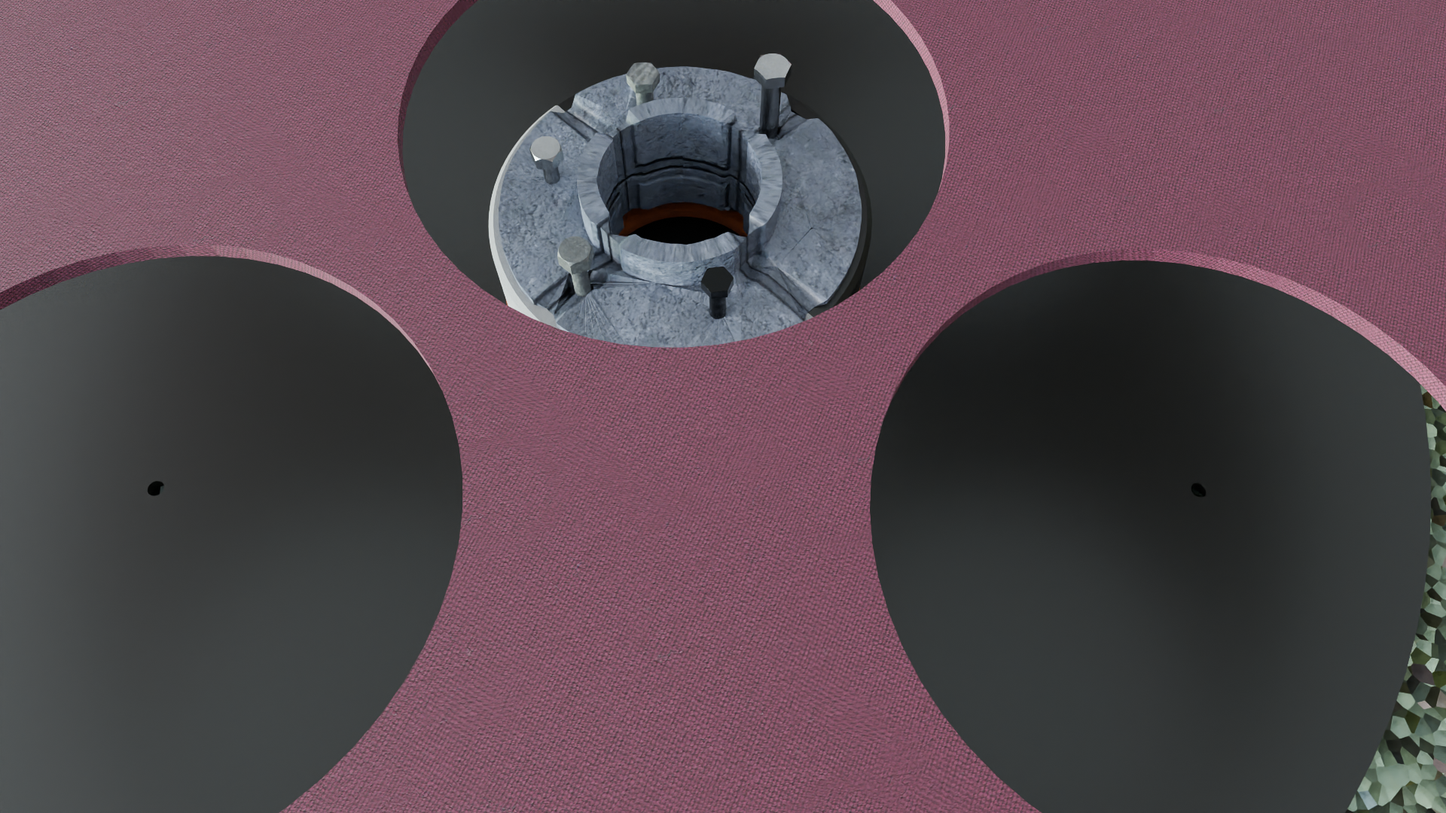bolt: (557, 236, 593, 266), (754, 53, 792, 80), (701, 266, 734, 293), (529, 136, 563, 162), (627, 62, 660, 85)
